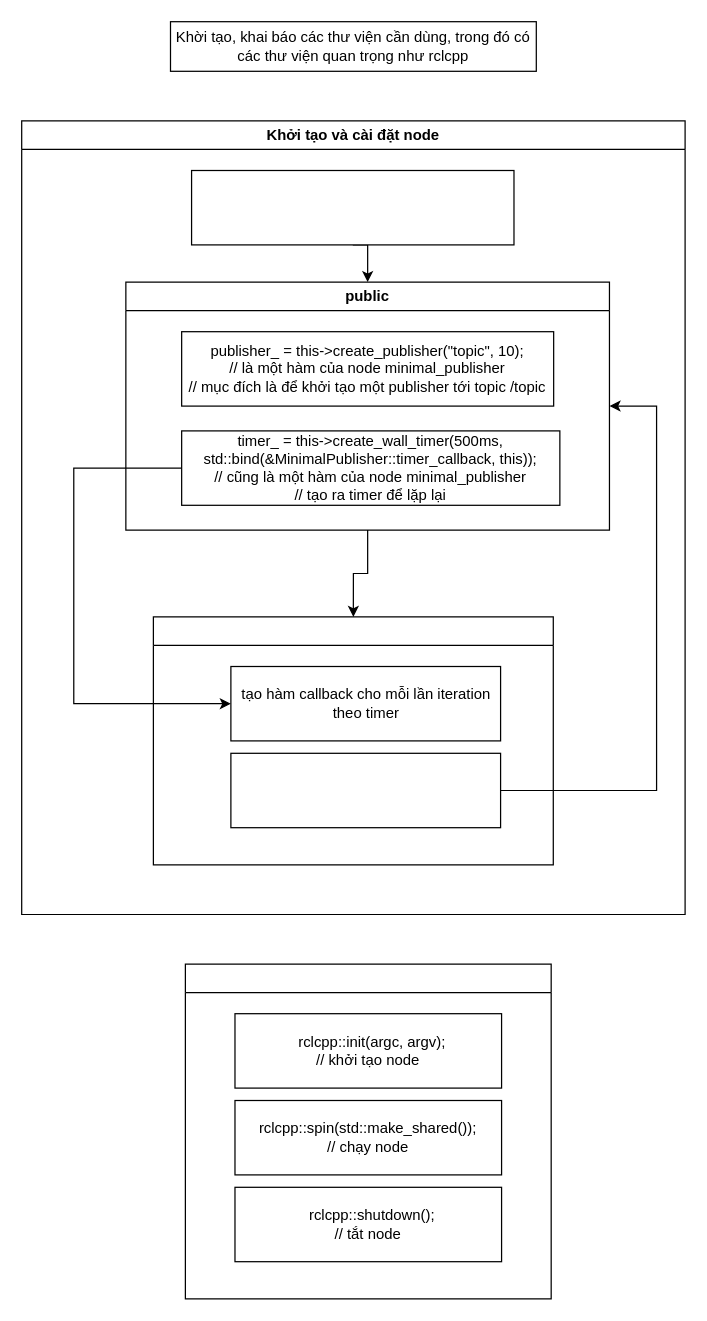
The diagram is 707 pixels wide and 1321 high, and some of its shapes have lost their labels. The box of each missing label's shape, as (x1, y1, x2, y2) in pixels:
chạy hàm main(): (184, 963, 551, 1299)
class MinimalPublisher : public rclcpp::Node: (190, 169, 514, 245)
khai báo các biến publisher_ và timer_: (230, 752, 501, 828)
private: (152, 616, 553, 865)
